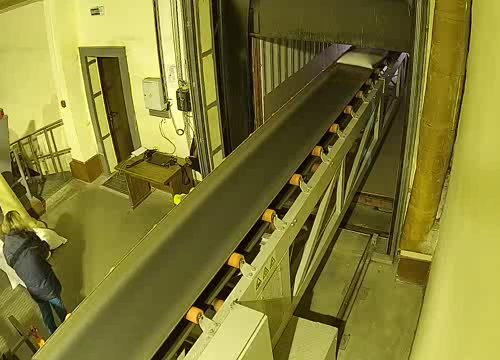bag: (336, 42, 395, 74)
